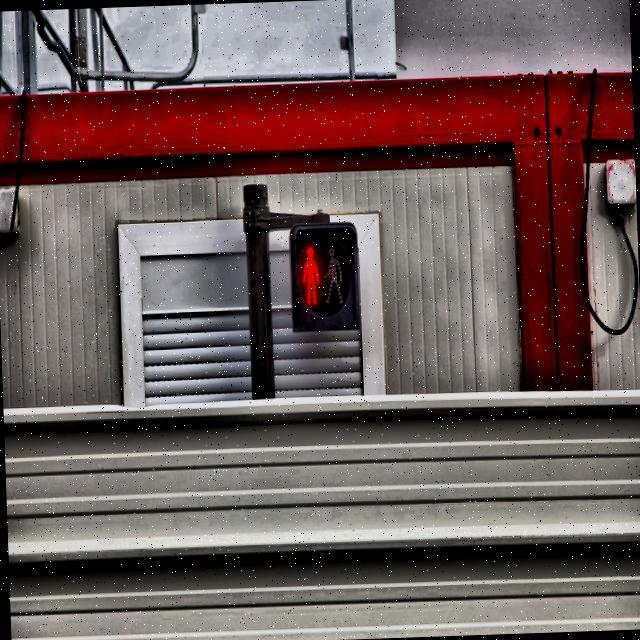red_light: (299, 242, 322, 309)
